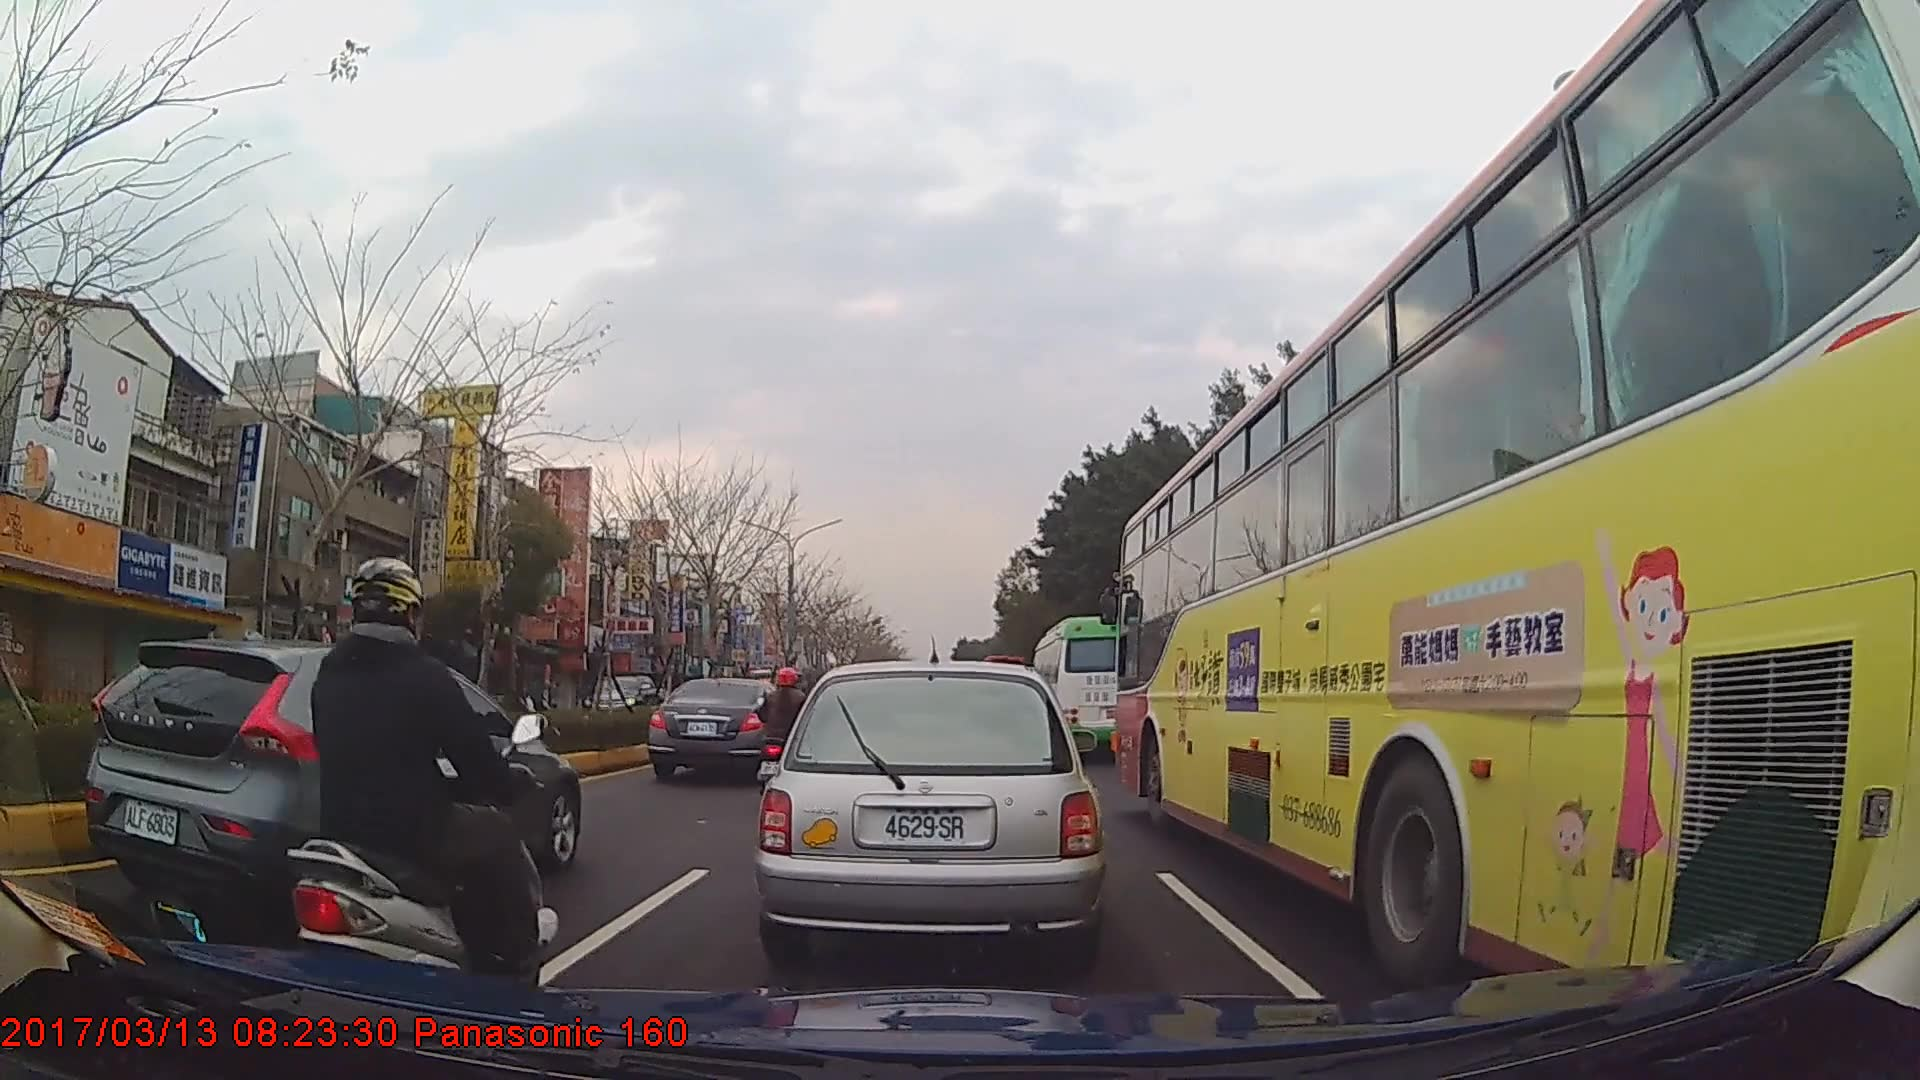rider: (300, 556, 555, 998), (758, 667, 816, 795)
vehicle: (1112, 0, 1920, 1013), (78, 635, 580, 925), (754, 657, 1106, 966), (1030, 614, 1148, 760), (648, 673, 800, 784), (585, 673, 670, 729)
